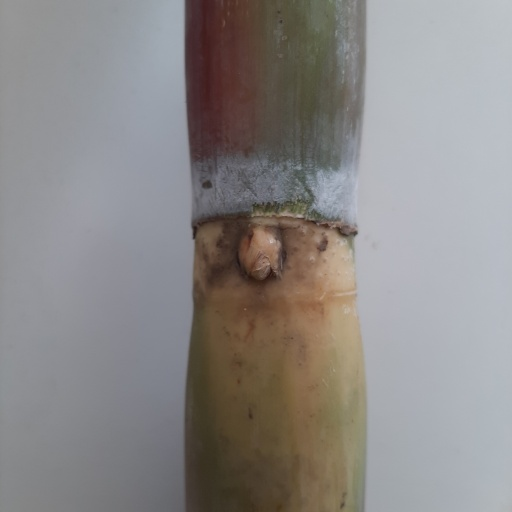Bud: (236, 222, 284, 281)
